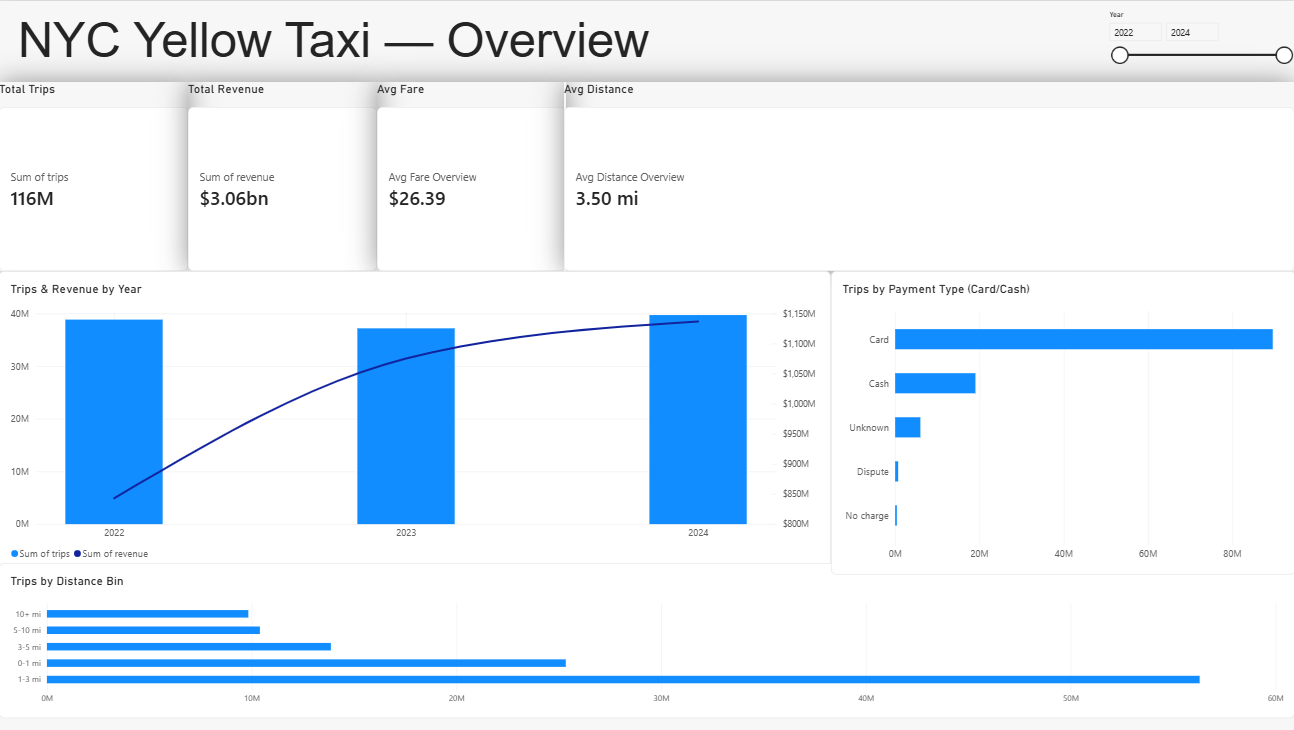

The page's visual inventory and layout, read from the dashboard file:
{"tool":"powerbi","page":{"name":"Page 1","canvas":[1920,1080],"ordinal":0},"visuals":[{"type":"cardVisual","title":"Total Trips","fields":{"Data":["Sum(public agg_monthly.trips)"]},"box":[0,120,280,280],"z":0},{"type":"cardVisual","title":"Total Revenue","fields":{"Data":["Sum(public agg_monthly.revenue)"]},"box":[280,120,280,280],"z":1000},{"type":"cardVisual","title":"Avg Fare","fields":{"Data":["public agg_monthly.Avg Fare Overview"]},"box":[560,120,280,280],"z":2000},{"type":"cardVisual","title":"Avg Distance","fields":{"Data":["public agg_monthly.Avg Distance Overview"]},"box":[837.6,120.5,1082,280],"z":3000},{"type":"lineStackedColumnComboChart","title":"Trips & Revenue by Year","fields":{"Category":["public agg_monthly.month.Variation.Date Hierarchy.Year","public agg_monthly.month.Variation.Date Hierarchy.Quarter","public agg_monthly.month.Variation.Date Hierarchy.Month","public agg_monthly.month.Variation.Date Hierarchy.Day"],"Y":["Sum(public agg_monthly.trips)"],"Y2":["Sum(public agg_monthly.revenue)"]},"box":[0,400,1232,450],"z":4000},{"type":"barChart","title":"Trips by Distance Bin","fields":{"Category":["public agg_distance_bins.distance_bin"],"Y":["Sum(public agg_distance_bins.trips)"]},"box":[0,831.9,1920,230],"z":5000},{"type":"barChart","title":"Trips by Payment Type (Card/Cash)","fields":{"Category":["public agg_payment.Payment Label"],"Y":["Sum(public agg_payment.trips)"]},"box":[1232,400,688,450],"z":6000},{"type":"slicer","fields":{"Values":["public agg_monthly.month.Variation.Date Hierarchy.Year"]},"box":[1637,13.4,283,105.2],"z":7000},{"type":"textbox","box":[28,16,966,104],"z":8000}]}

Visuals, with their boxes in screenshot pixels (x1, y1, x2, y2), scaled from the page's 1920x1080 canvas onto the 1294x730 screenshot:
"Total Trips" cardVisual: detection(0, 81, 189, 270)
"Total Revenue" cardVisual: detection(189, 81, 377, 270)
"Avg Fare" cardVisual: detection(377, 81, 566, 270)
"Avg Distance" cardVisual: detection(565, 81, 1293, 271)
"Trips & Revenue by Year" lineStackedColumnComboChart: detection(0, 270, 830, 575)
"Trips by Distance Bin" barChart: detection(0, 562, 1293, 718)
"Trips by Payment Type (Card/Cash)" barChart: detection(830, 270, 1293, 575)
slicer - public agg_monthly.month.Variation.Date Hierarchy.Year: detection(1103, 9, 1293, 80)
textbox: detection(19, 11, 670, 81)
